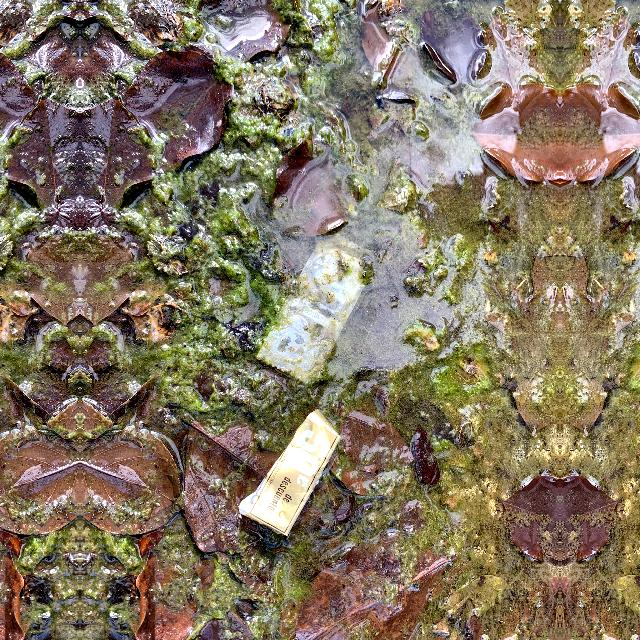Plastic: (252, 225, 388, 389), (233, 403, 345, 541)
